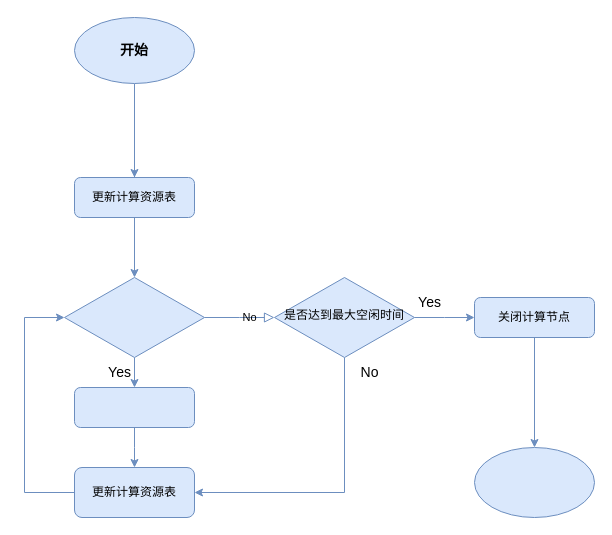
The diagram is 612 pixels wide and 535 high, and some of its shapes have lost their labels. Each missing label, with the centre of its shape:
"是否有作业" goes at (x=134, y=317).
"结束" goes at (x=534, y=482).
"选取一条作业" goes at (x=134, y=407).
